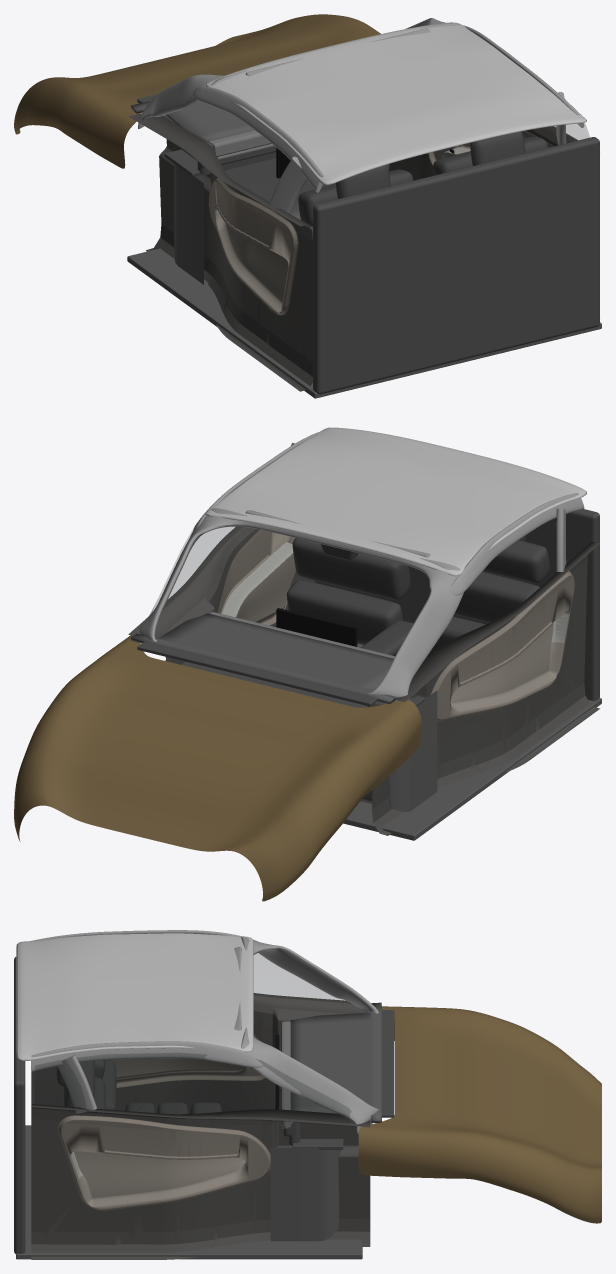
The model's file is cabin.ffac8cde.glb.
3 views of the same model, one above another, from view 1: azimuth 30°, elevation 25°; view 2: azimuth 150°, elevation 25°; view 3: azimuth 270°, elevation 25° (orthographic). The views are drawn at different scales.
Visible parts, largest first — view 1: Cabin; view 2: Cabin, Glass; view 3: Cabin, Glass.
Boxes of the visible parts, box(x1,y1,x2,y2) form: Cabin: box(14, 14, 601, 398); Cabin: box(14, 427, 601, 901); Glass: box(148, 524, 242, 617); Cabin: box(14, 930, 601, 1259); Glass: box(35, 953, 355, 1126).
Bounding box in the file's own units: 1.75 × 1.2 × 3.07.
